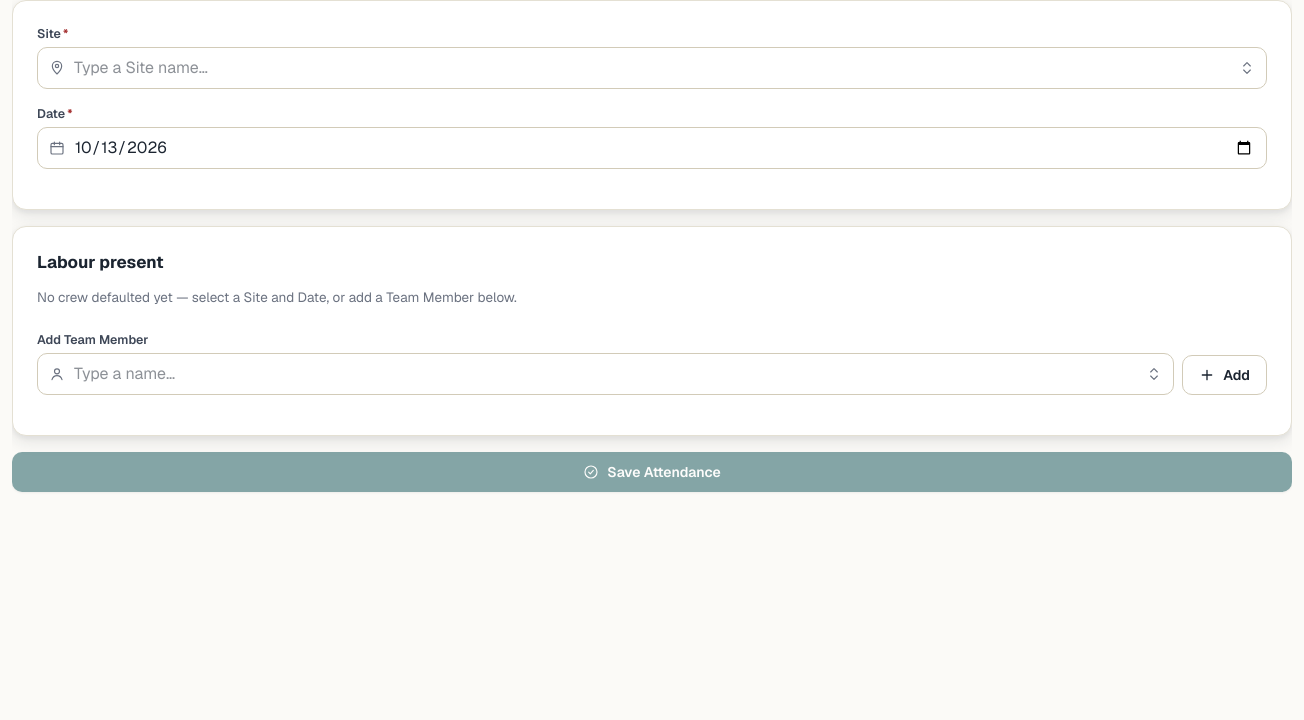
Test: WorkRecordForm › fetches and renders the default crew once a Site is selected (AC #2)
SiteField is a searchable combobox: type, then click the option.
Type "NH-48" into the dropdown labelled "Site". click: (652, 68)
box: [37, 47, 1267, 89]
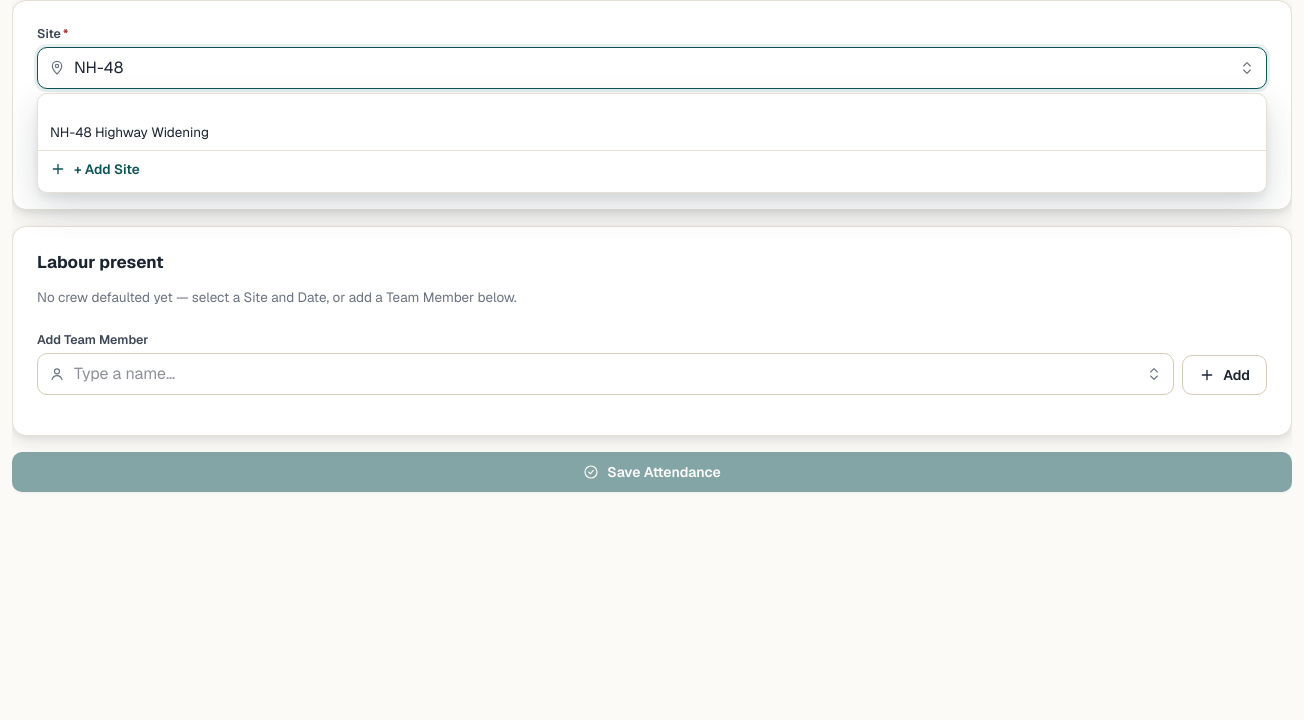
Click the option "NH-48 Highway Widening". click: (130, 132)
box: [50, 123, 209, 141]
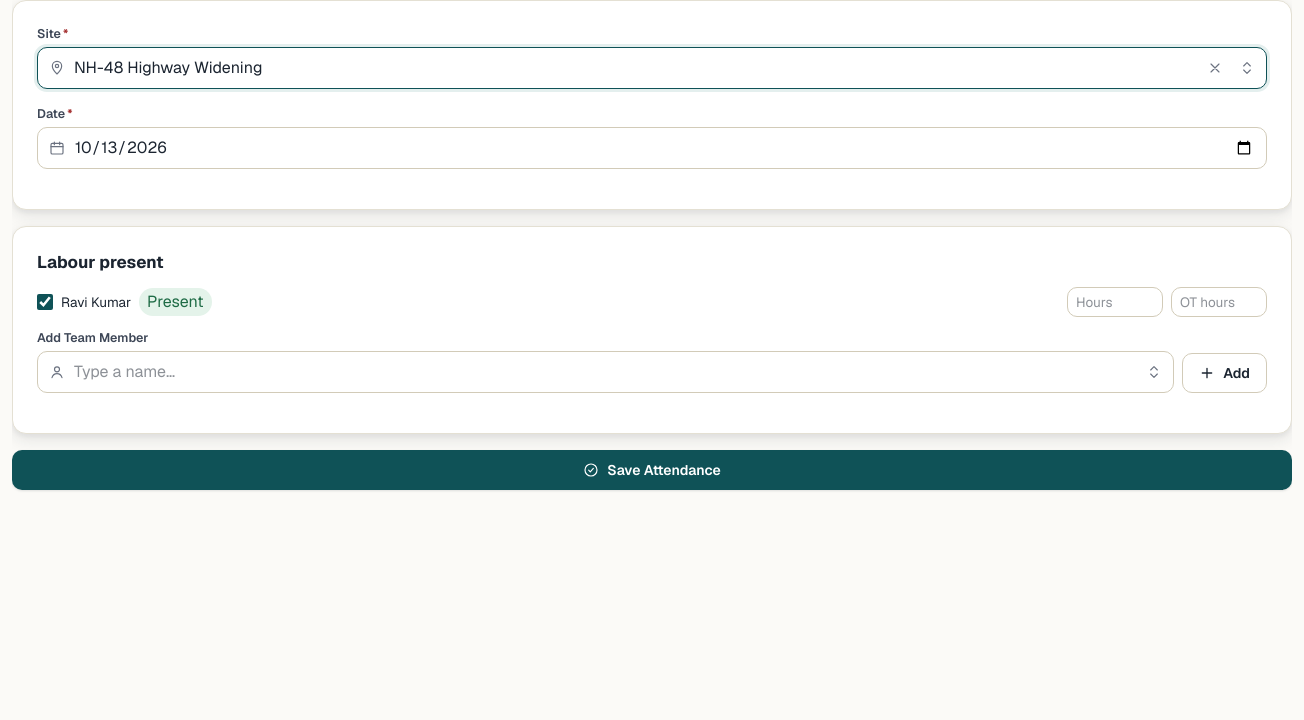
Now the text "Ravi Kumar" is shown, box [61, 292, 131, 312]
